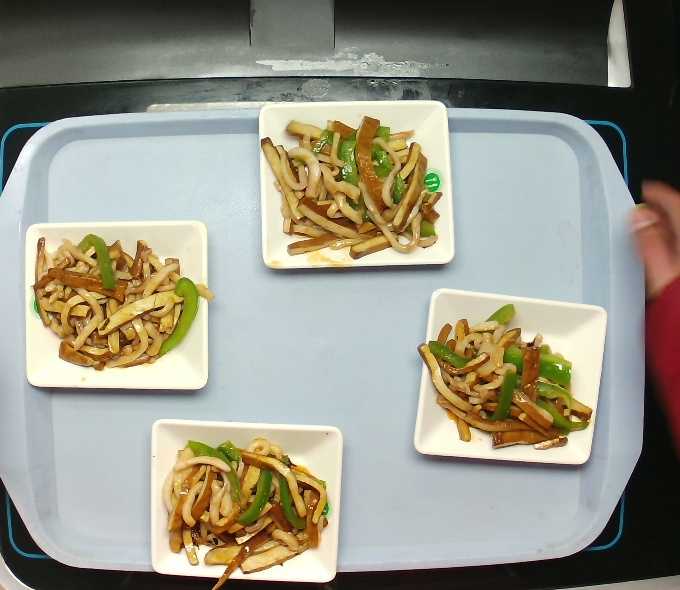wcq-XiangGanYouYu: (414, 298, 597, 459), (156, 431, 334, 582), (263, 114, 444, 257), (26, 230, 203, 374)
